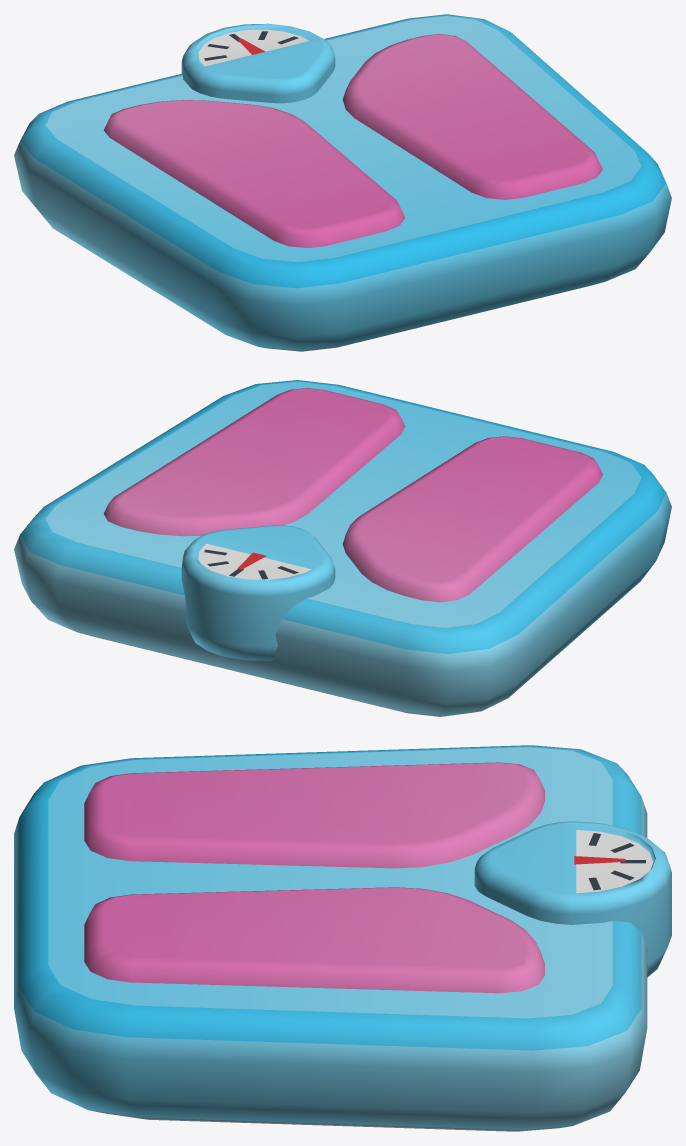
File: Scales_01.glb
3 views of the same model, one above another, from view 1: azimuth 30°, elevation 25°; view 2: azimuth 150°, elevation 25°; view 3: azimuth 270°, elevation 25° (orthographic). The views are drawn at different scales.
Visible parts, largest first — view 1: Scales_01; view 2: Scales_01; view 3: Scales_01.
Boxes of the visible parts, box(x1,y1,x2,y2) form: Scales_01: box(14, 14, 671, 351); Scales_01: box(14, 380, 671, 716); Scales_01: box(14, 745, 671, 1131).
Size of the model in its own units: 0.3759 by 0.0843 by 0.3464.
Materials: 1 (1 with a texture image).
